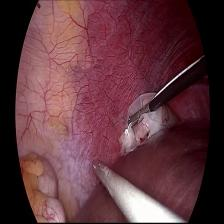Grasper: (126, 101, 151, 131)
Irrigator: (90, 156, 110, 184)
Specimen Bag: (119, 85, 180, 158)
